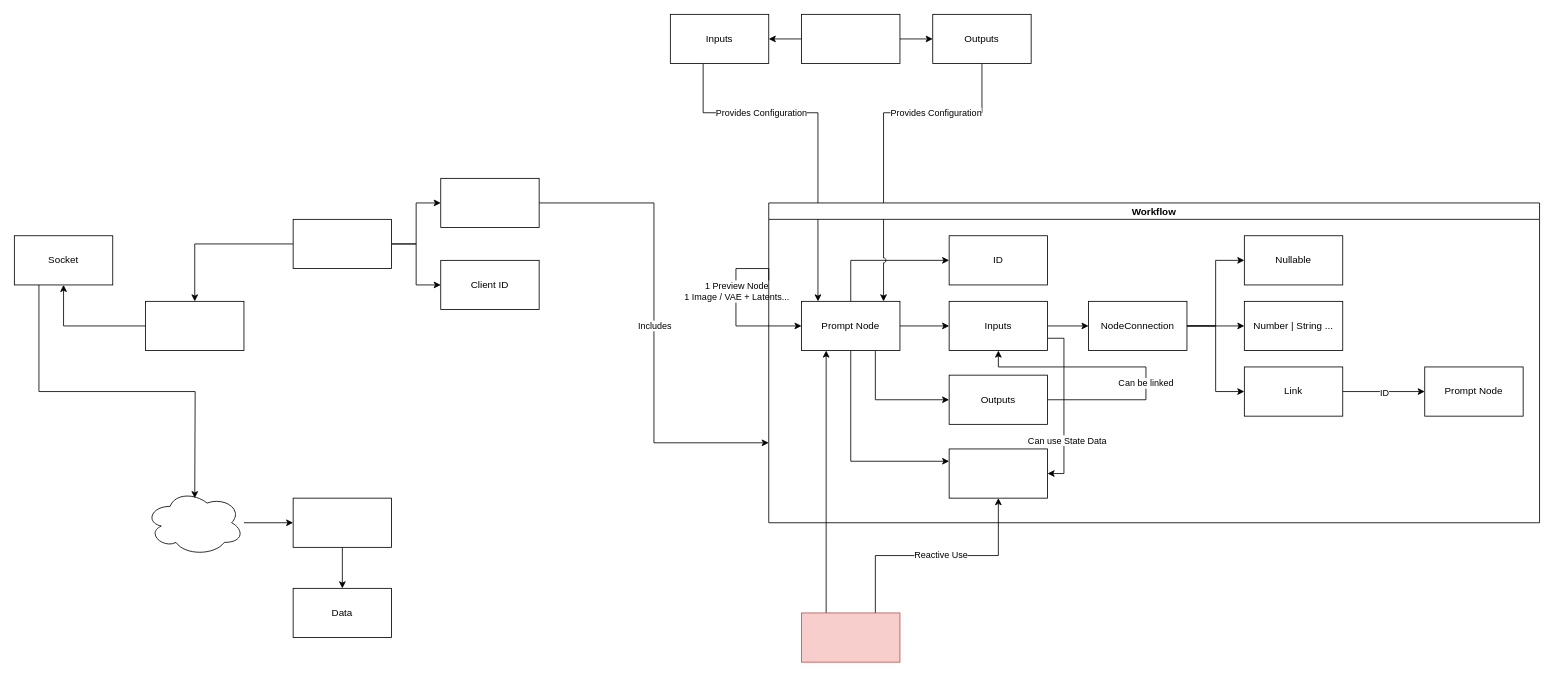
This 1554x677 diagram has some shape labels left out. Each missing label, with the centre of its shape:
Comfyui Socket: point 194,326
Data Node: point 850,39
Prompt: point 489,203
Prompt DTO: point 342,244
Prompt UI: point 850,637
Server: point 194,522
State: point 998,473
Websocket Messages: point 342,522
